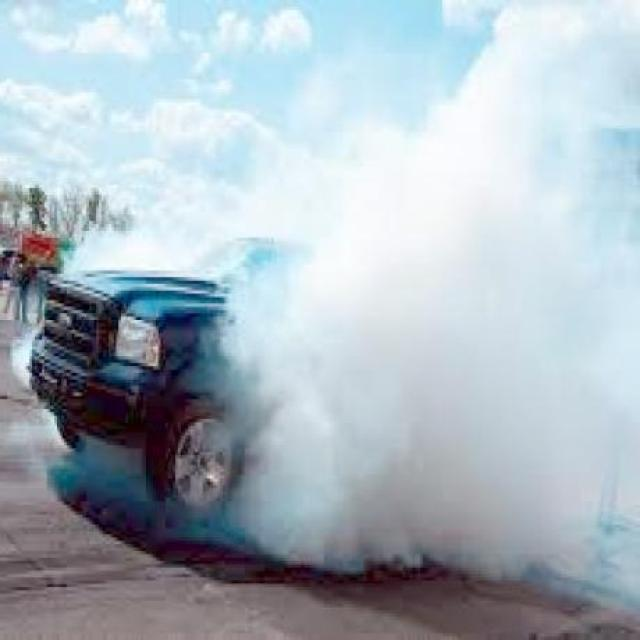Smoke: (223, 114, 640, 598)
